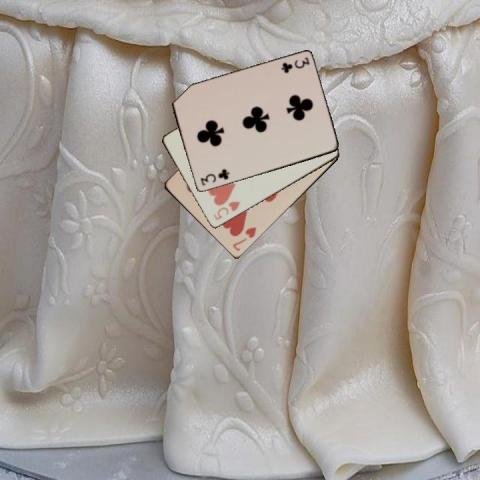3c: (197, 166, 231, 187), (278, 55, 311, 74)
5h: (210, 199, 242, 221)
7h: (230, 224, 257, 253)
